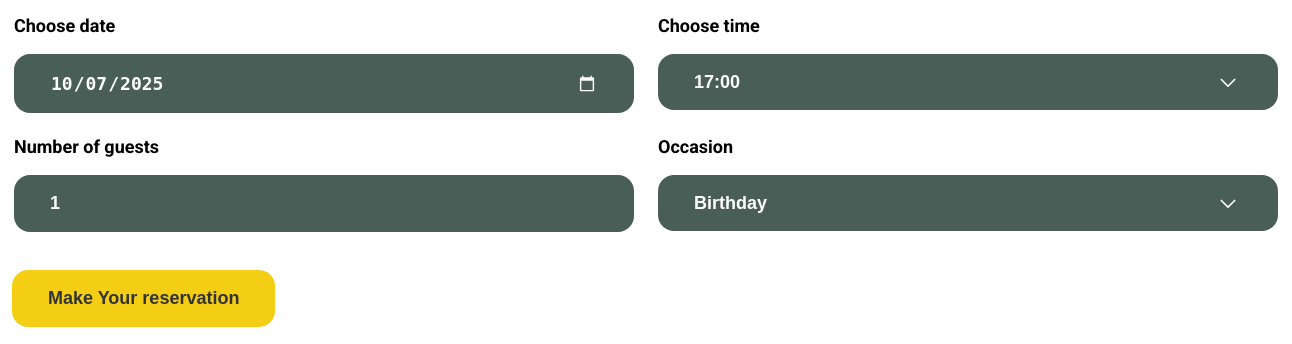
Test: BookingForm › Submit button is disabled if date is not selected
The width and height of the screenshot is (1292, 344).
# Simulate user clearing the date input
Clear the date field labelled "Choose date": (324, 84) [14,54,634,113]
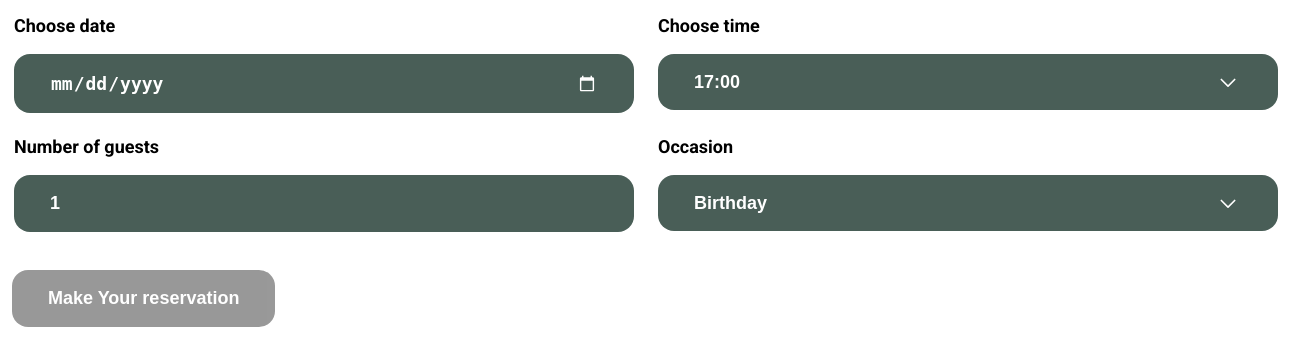
Result: the button with aria-label "on click" is disabled at [12,270,275,327]
